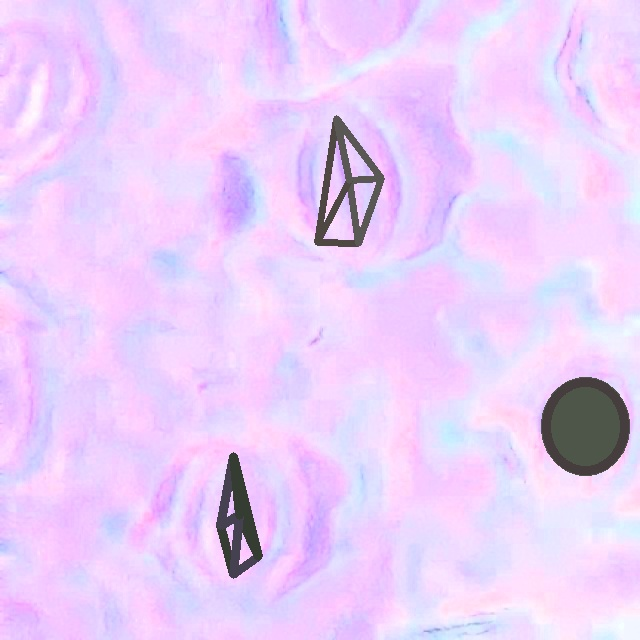close: (216, 452, 262, 578)
open: (314, 115, 384, 246), (542, 377, 629, 475)
